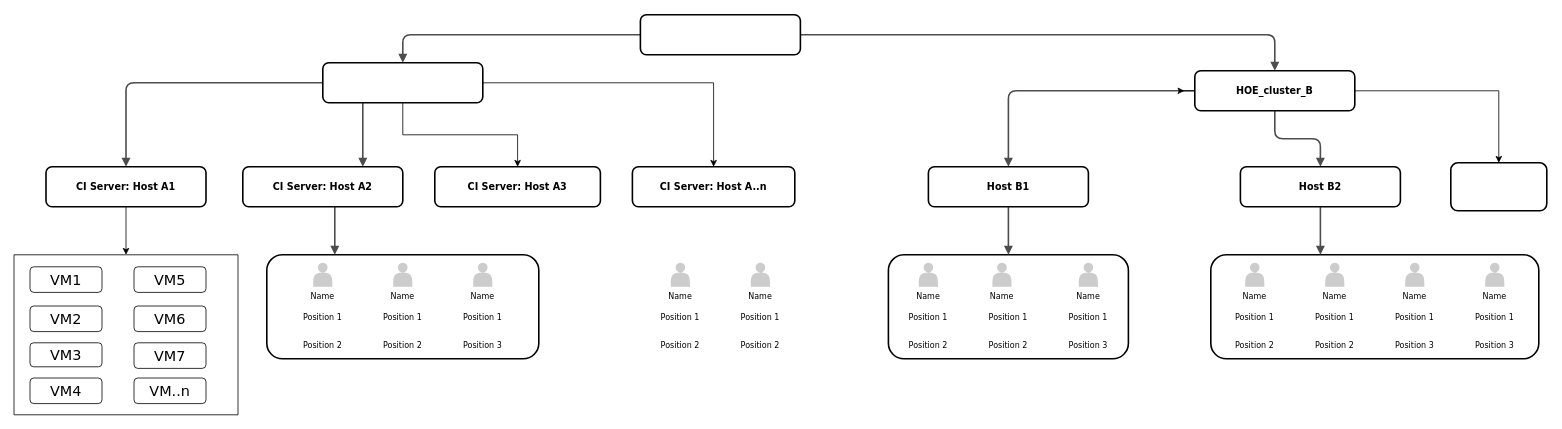
Image size: 1562x429. Some labels were removed from this diagram. Here are the shapes that lost their labels. From the top down, the centre of each, then its label:
At (720,34): "CI vCenter: VMS150".
At (402,82): "CI Cluster: HOE_cluster_A".
At (1498,186): "Host B..n".
